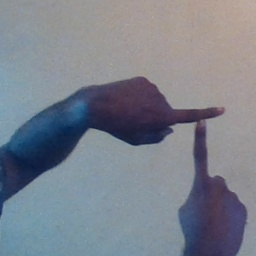T: (149, 82, 240, 197)
